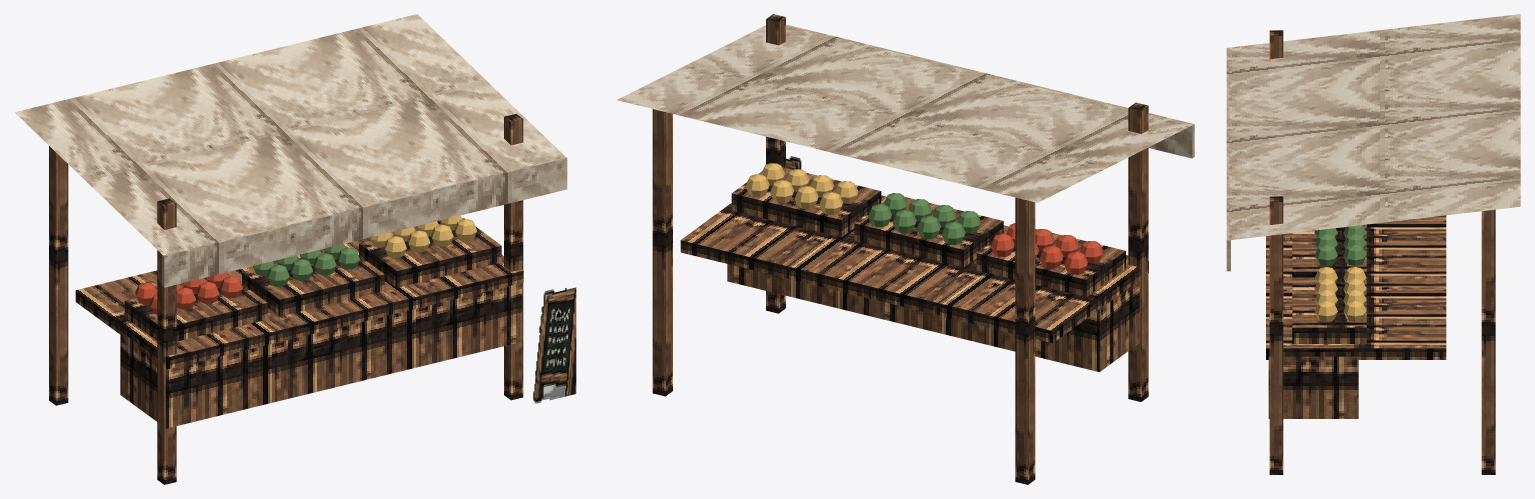
The model's file is market.glb.
The picture shows the model from 3 angles, left to right: view 1: azimuth 30°, elevation 25°; view 2: azimuth 150°, elevation 25°; view 3: azimuth 270°, elevation 25°; orthographic projection. The views are drawn at different scales.
Parts seen in each view (by area): view 1: market_p9_canvas, market_p9_wood, market_p9_sign_menu, market_p9_gold, market_p9_leaf, market_p9_red; view 2: market_p9_wood, market_p9_canvas, market_p9_gold, market_p9_leaf, market_p9_red; view 3: market_p9_canvas, market_p9_wood, market_p9_gold, market_p9_leaf.
Boxes of the visible parts, x1,y1,x2,y2 form: market_p9_canvas: (15,14,567,287); market_p9_wood: (49,114,523,484); market_p9_sign_menu: (533,287,576,403); market_p9_gold: (370,215,476,258); market_p9_leaf: (253,244,359,286); market_p9_red: (135,272,242,314); market_p9_wood: (652,14,1148,484); market_p9_canvas: (616,24,1194,202); market_p9_gold: (745,163,858,214); market_p9_leaf: (868,193,980,244); market_p9_red: (990,223,1103,274); market_p9_canvas: (1226,14,1520,271); market_p9_wood: (1266,30,1495,474); market_p9_gold: (1314,267,1366,321); market_p9_leaf: (1314,224,1366,265).
Size of the model in its own units: 4.5 by 2.9 by 2.8.
6 materials, 3 textured.
